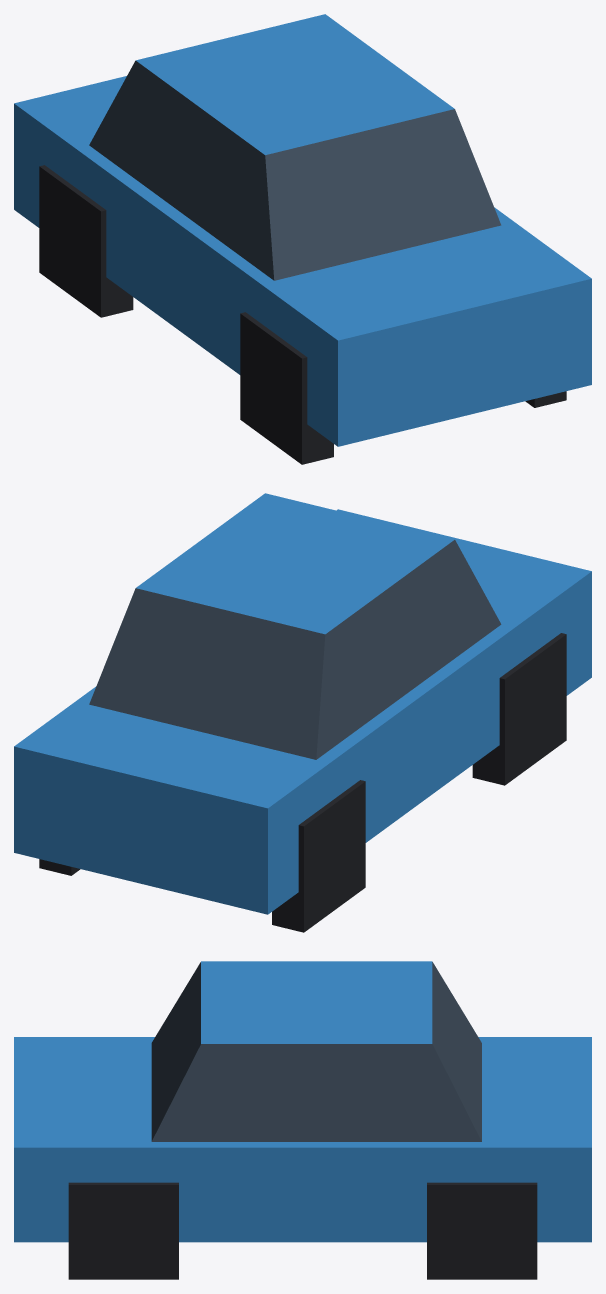
File: V_CarBlue.fbx
3 renders of one model, top to bottom at view 1: azimuth 30°, elevation 25°; view 2: azimuth 150°, elevation 25°; view 3: azimuth 270°, elevation 25°, orthographic. The views are drawn at different scales.
Visible parts, largest first — view 1: V_CarBlue.002; view 2: V_CarBlue.002; view 3: V_CarBlue.002.
Part boxes in pixels (x1,y1,x2,y2): V_CarBlue.002: [14, 14, 591, 464]; V_CarBlue.002: [14, 493, 591, 932]; V_CarBlue.002: [14, 961, 591, 1279].
Size of the model in its own units: 0.99 by 0.88 by 2.1.
